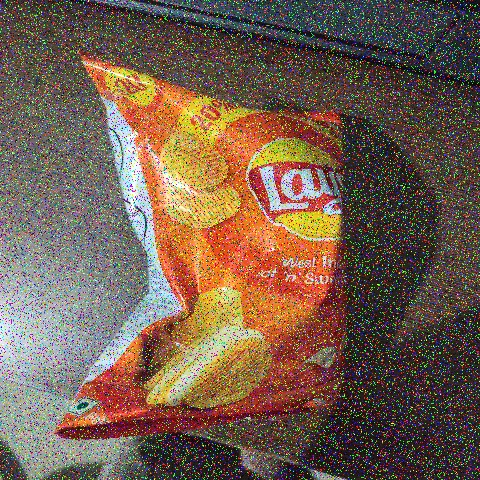lays_orange_pack: (57, 32, 362, 443)
